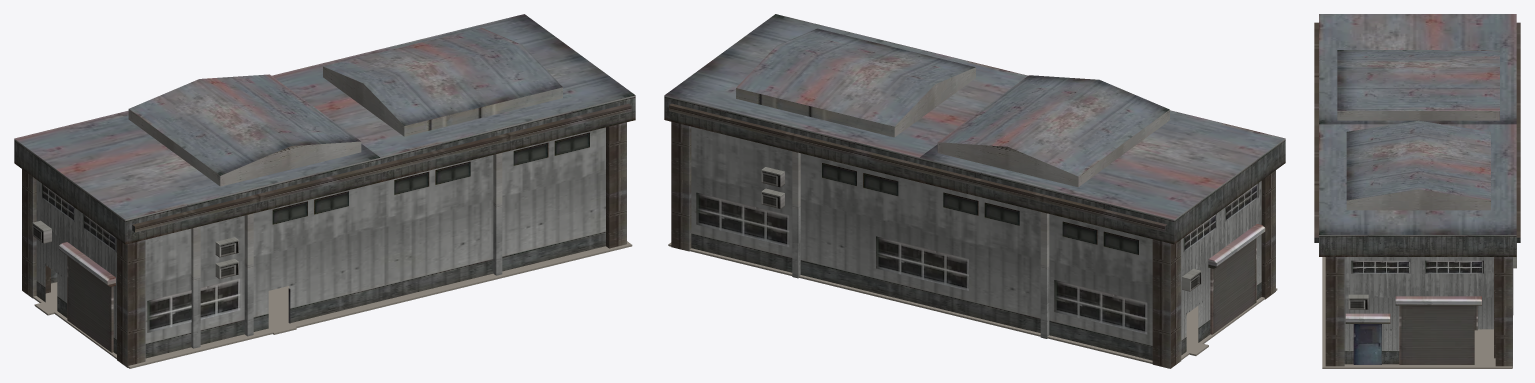
Rendered from ind-warehouse-1.zfix-v14.lod0.glb.
3 renders of one model, left to right at view 1: azimuth 30°, elevation 25°; view 2: azimuth 150°, elevation 25°; view 3: azimuth 270°, elevation 25°, orthographic. The views are drawn at different scales.
Visible parts, largest first — view 1: Industrial_Warehouse_1_Industrial_Walls_FLR_1_0, Industrial_Warehouse_1_Industrial_Facade_Flr_1_0, Walkable floors and stairs; view 2: Industrial_Warehouse_1_Industrial_Walls_FLR_1_0, Industrial_Warehouse_1_Industrial_Facade_Flr_1_0, Walkable floors and stairs; view 3: Industrial_Warehouse_1_Industrial_Walls_FLR_1_0, Industrial_Warehouse_1_Industrial_Facade_Flr_1_0, Walkable floors and stairs.
Boxes of the visible parts, bbox=[...] form: Industrial_Warehouse_1_Industrial_Walls_FLR_1_0: bbox=[14, 14, 635, 367]; Industrial_Warehouse_1_Industrial_Facade_Flr_1_0: bbox=[32, 132, 589, 352]; Walkable floors and stairs: bbox=[33, 241, 632, 368]; Industrial_Warehouse_1_Industrial_Walls_FLR_1_0: bbox=[664, 14, 1285, 368]; Industrial_Warehouse_1_Industrial_Facade_Flr_1_0: bbox=[696, 163, 1265, 334]; Walkable floors and stairs: bbox=[668, 242, 1277, 363]; Industrial_Warehouse_1_Industrial_Walls_FLR_1_0: bbox=[1314, 14, 1520, 367]; Industrial_Warehouse_1_Industrial_Facade_Flr_1_0: bbox=[1345, 243, 1516, 364]; Walkable floors and stairs: bbox=[1322, 257, 1512, 368].
Size of the model in its own units: 33.87 by 11.12 by 13.36.
Materials: 4 (2 with a texture image).
